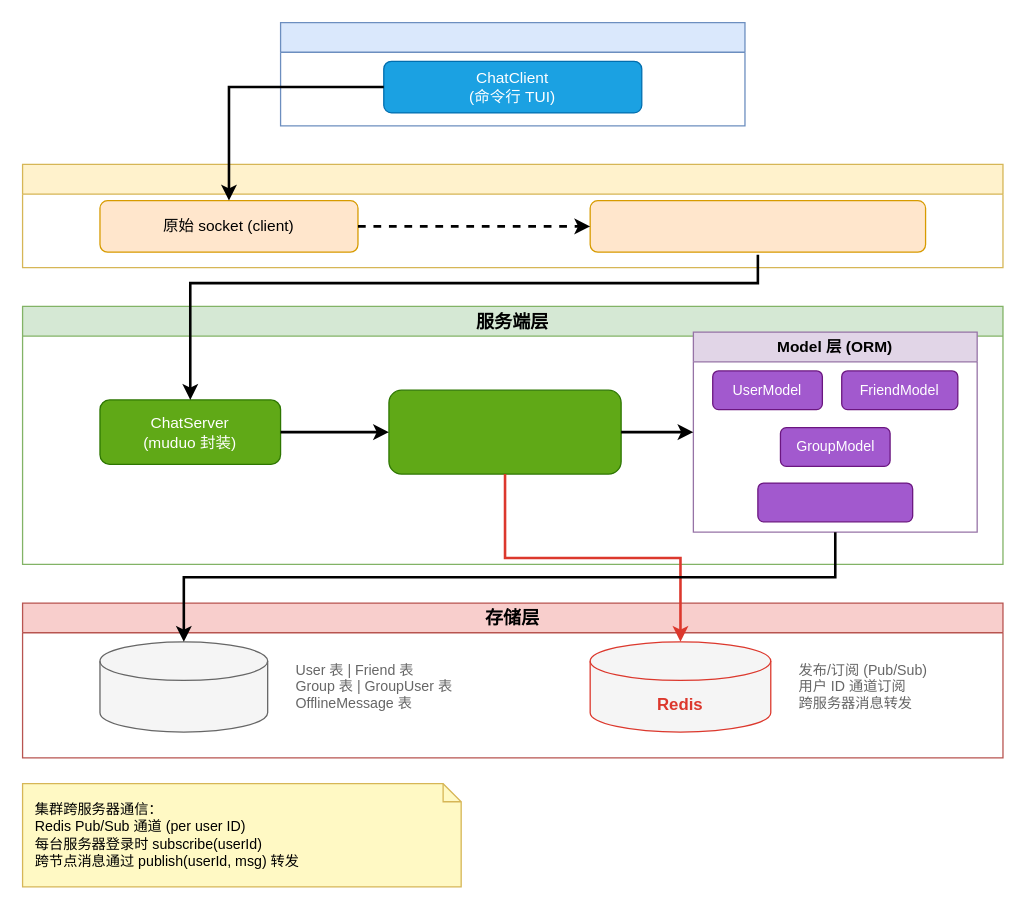
Image size: 1026x909. Some labels were removed from this diagram. The box of each missing label's shape, as (x1, y1, x2, y2) in pixels:
ChatService (单例) 业务核心：消息路由 在线用户管理 跨服务器通信: (388, 389, 621, 474)
muduo TcpServer (4 个 sub-reactor 线程): (589, 199, 926, 252)
MySQL: (99, 640, 268, 732)
OfflineMessageModel: (757, 482, 913, 522)
TCP 传输层: (21, 163, 1003, 268)
客户端层: (279, 21, 745, 126)
